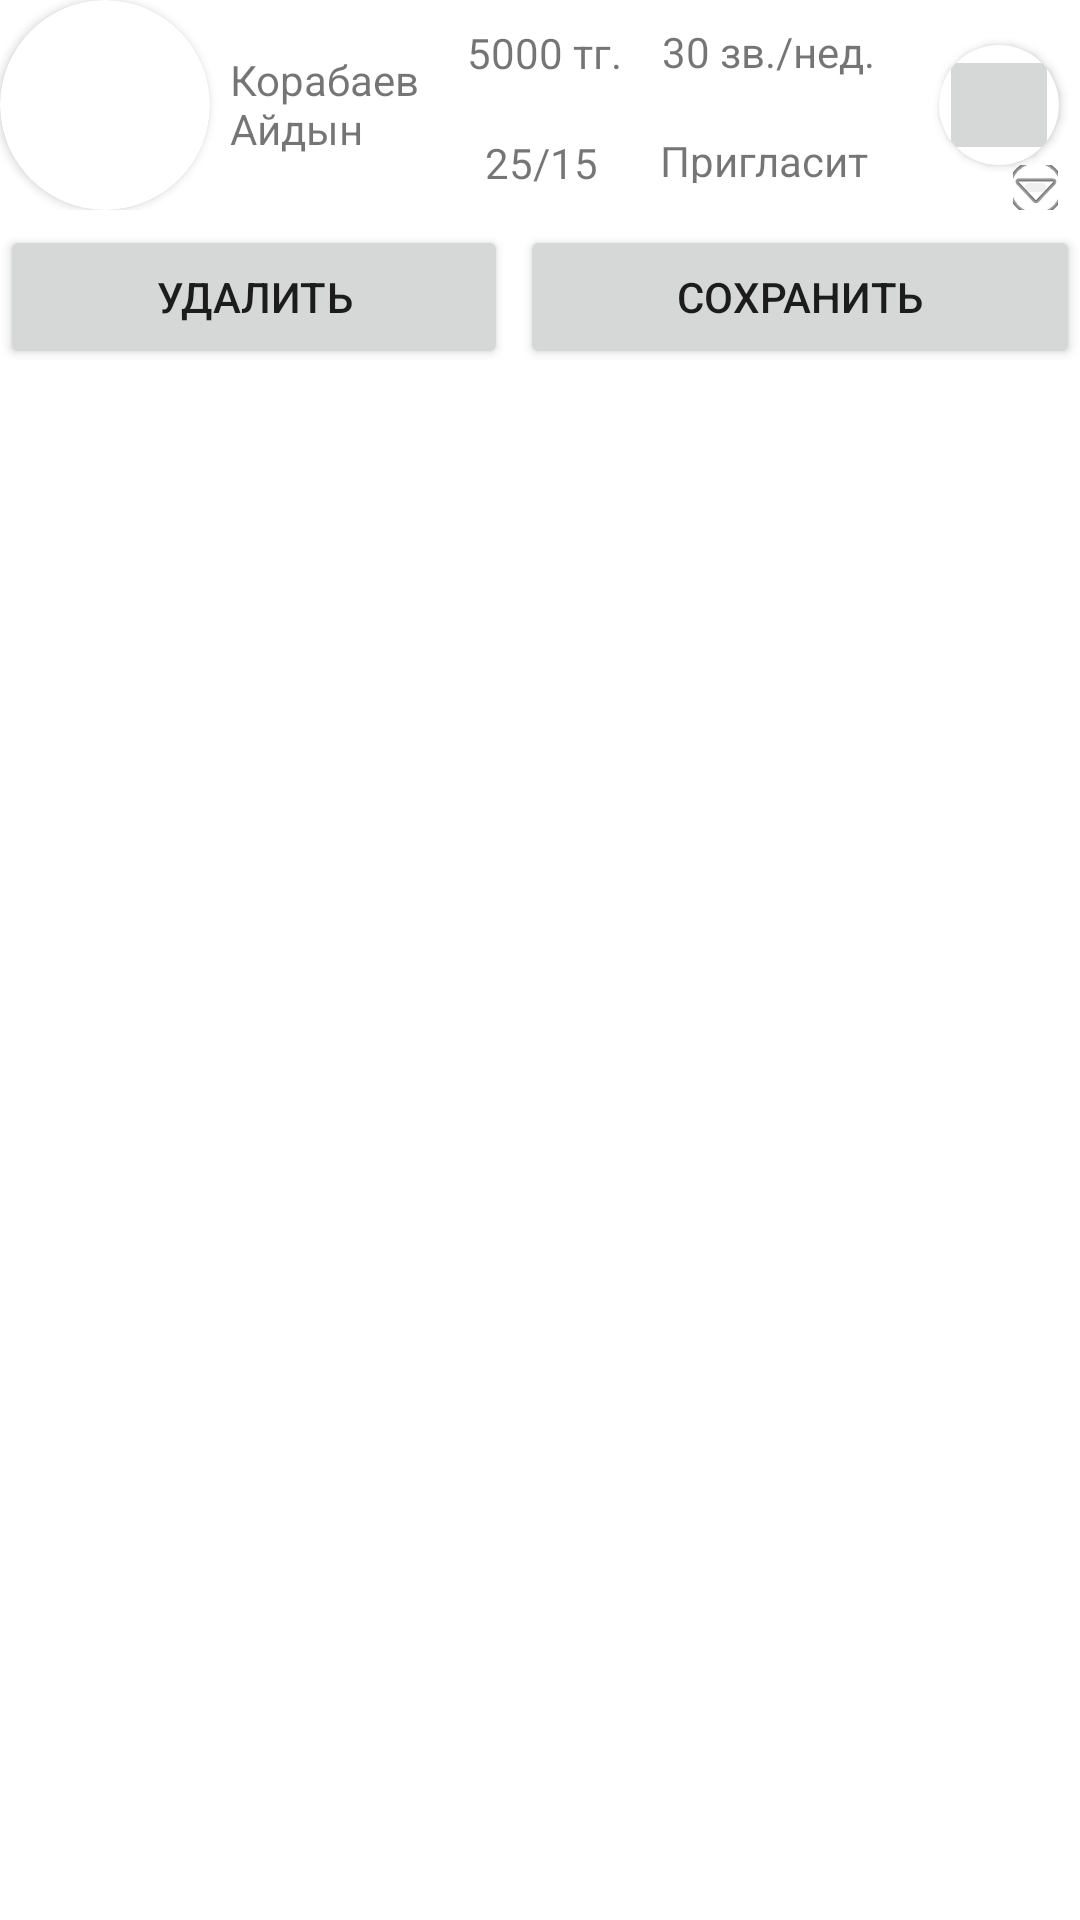

Icons on this 1080*1920 Android screen, each with the point to tap as (x=x, y=y):
more: (x=1035, y=187)
